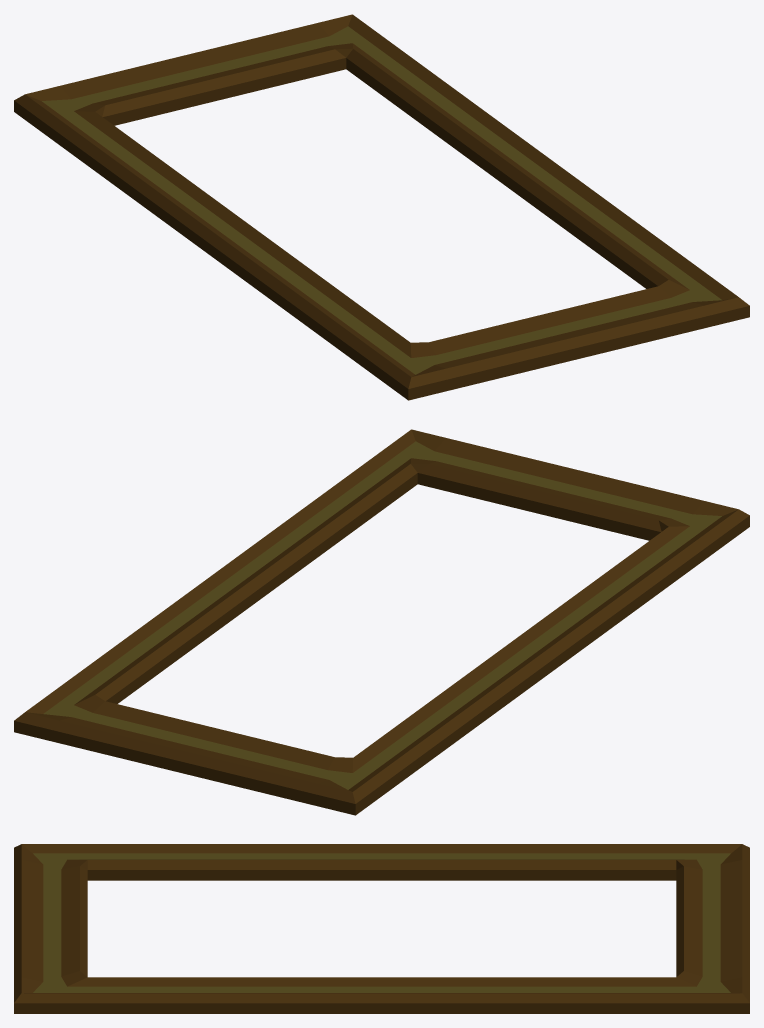
The model's file is cuadro.glb.
The picture shows the model from 3 angles, top to bottom: view 1: azimuth 30°, elevation 25°; view 2: azimuth 150°, elevation 25°; view 3: azimuth 270°, elevation 25°; orthographic projection. The views are drawn at different scales.
Parts seen in each view (by area): view 1: Grid; view 2: Grid; view 3: Grid.
Part boxes in pixels (bbox=[...]): Grid: bbox=[14, 14, 749, 400]; Grid: bbox=[14, 429, 749, 815]; Grid: bbox=[14, 844, 749, 1013].
Bounding box in the file's own units: 2 × 0.1053 × 4.
